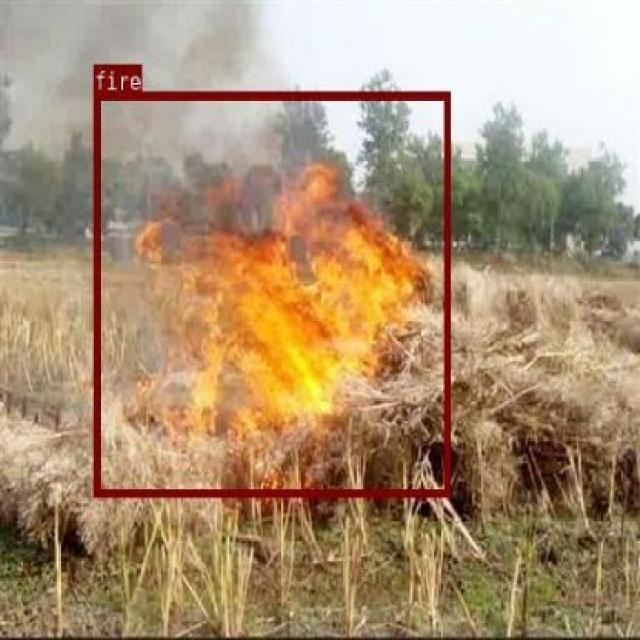Fire: (271, 293, 357, 405)
